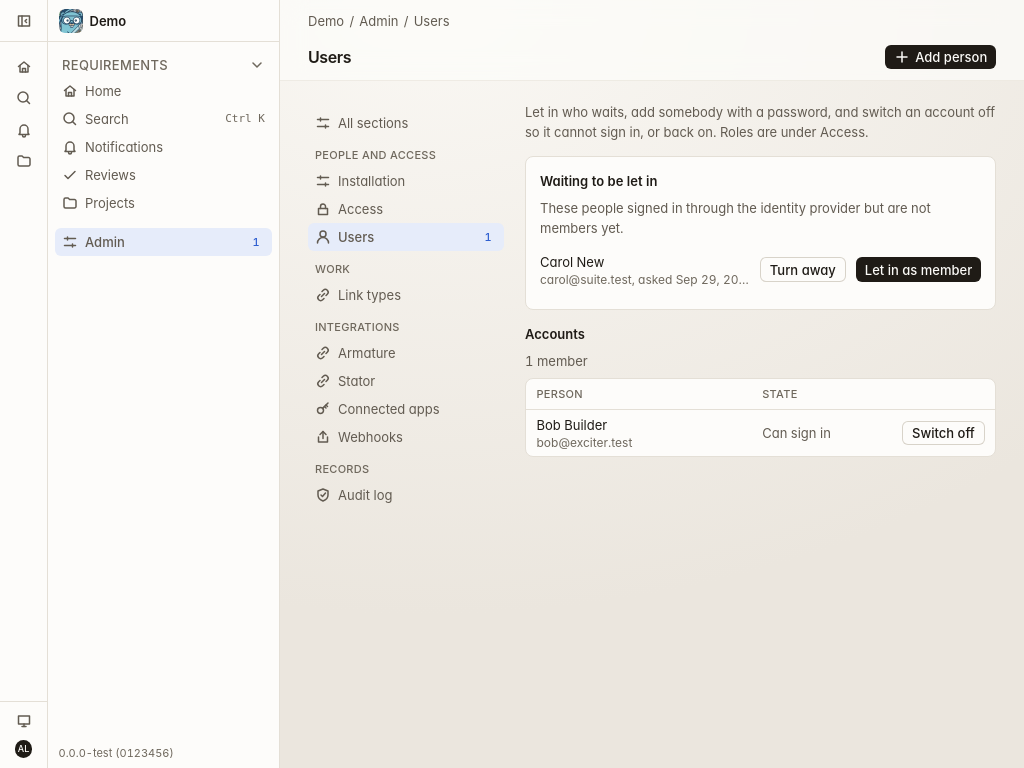
the people waiting to be let in › are turned away, which asks the server to forget the request
The image size is (1024, 768).
Click the button "Turn away": click(803, 270) x1=760 y1=257 x2=846 y2=282
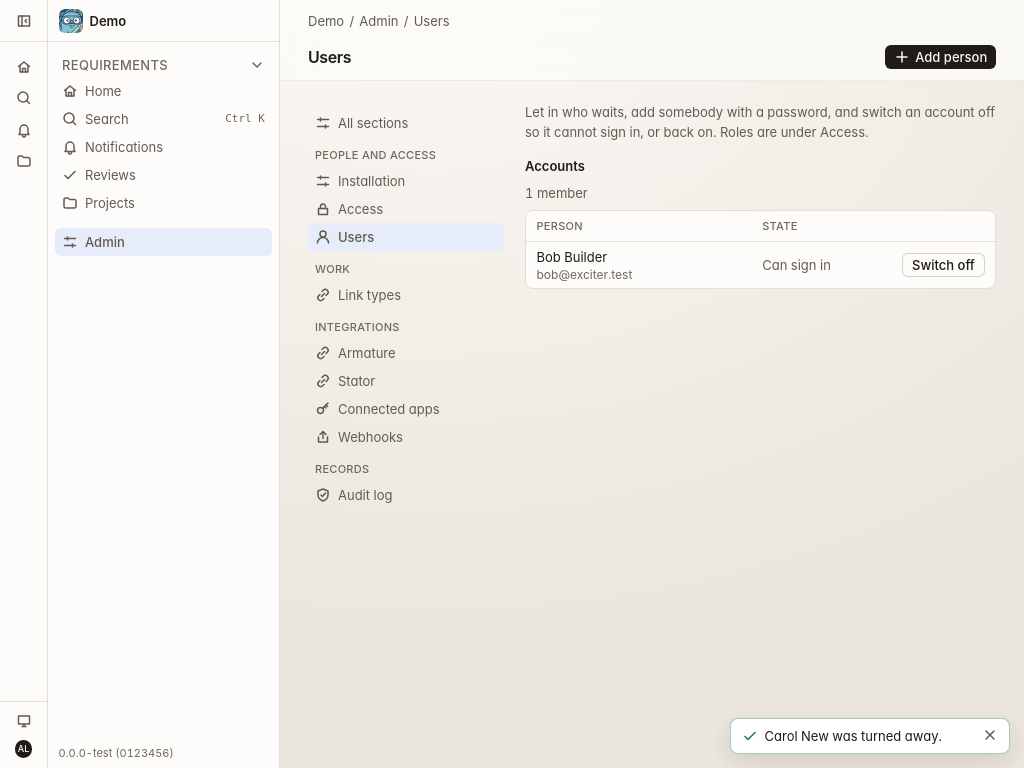
Result: the text "Carol New was turned away." is shown at x1=764 y1=726 x2=970 y2=746
